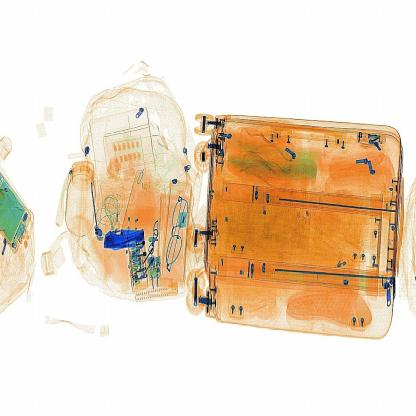knife: (98, 225, 151, 253)
